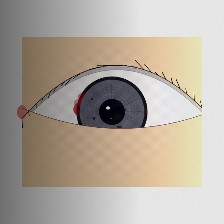hemorrhage_spot: (59, 69, 161, 150)
